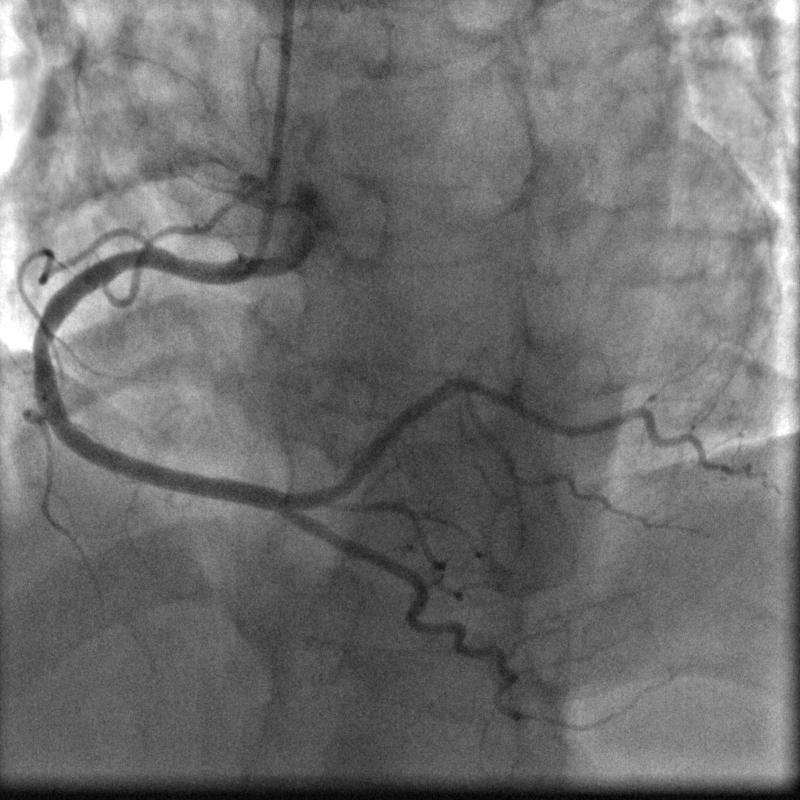Stenosis: (26, 313, 59, 374)
